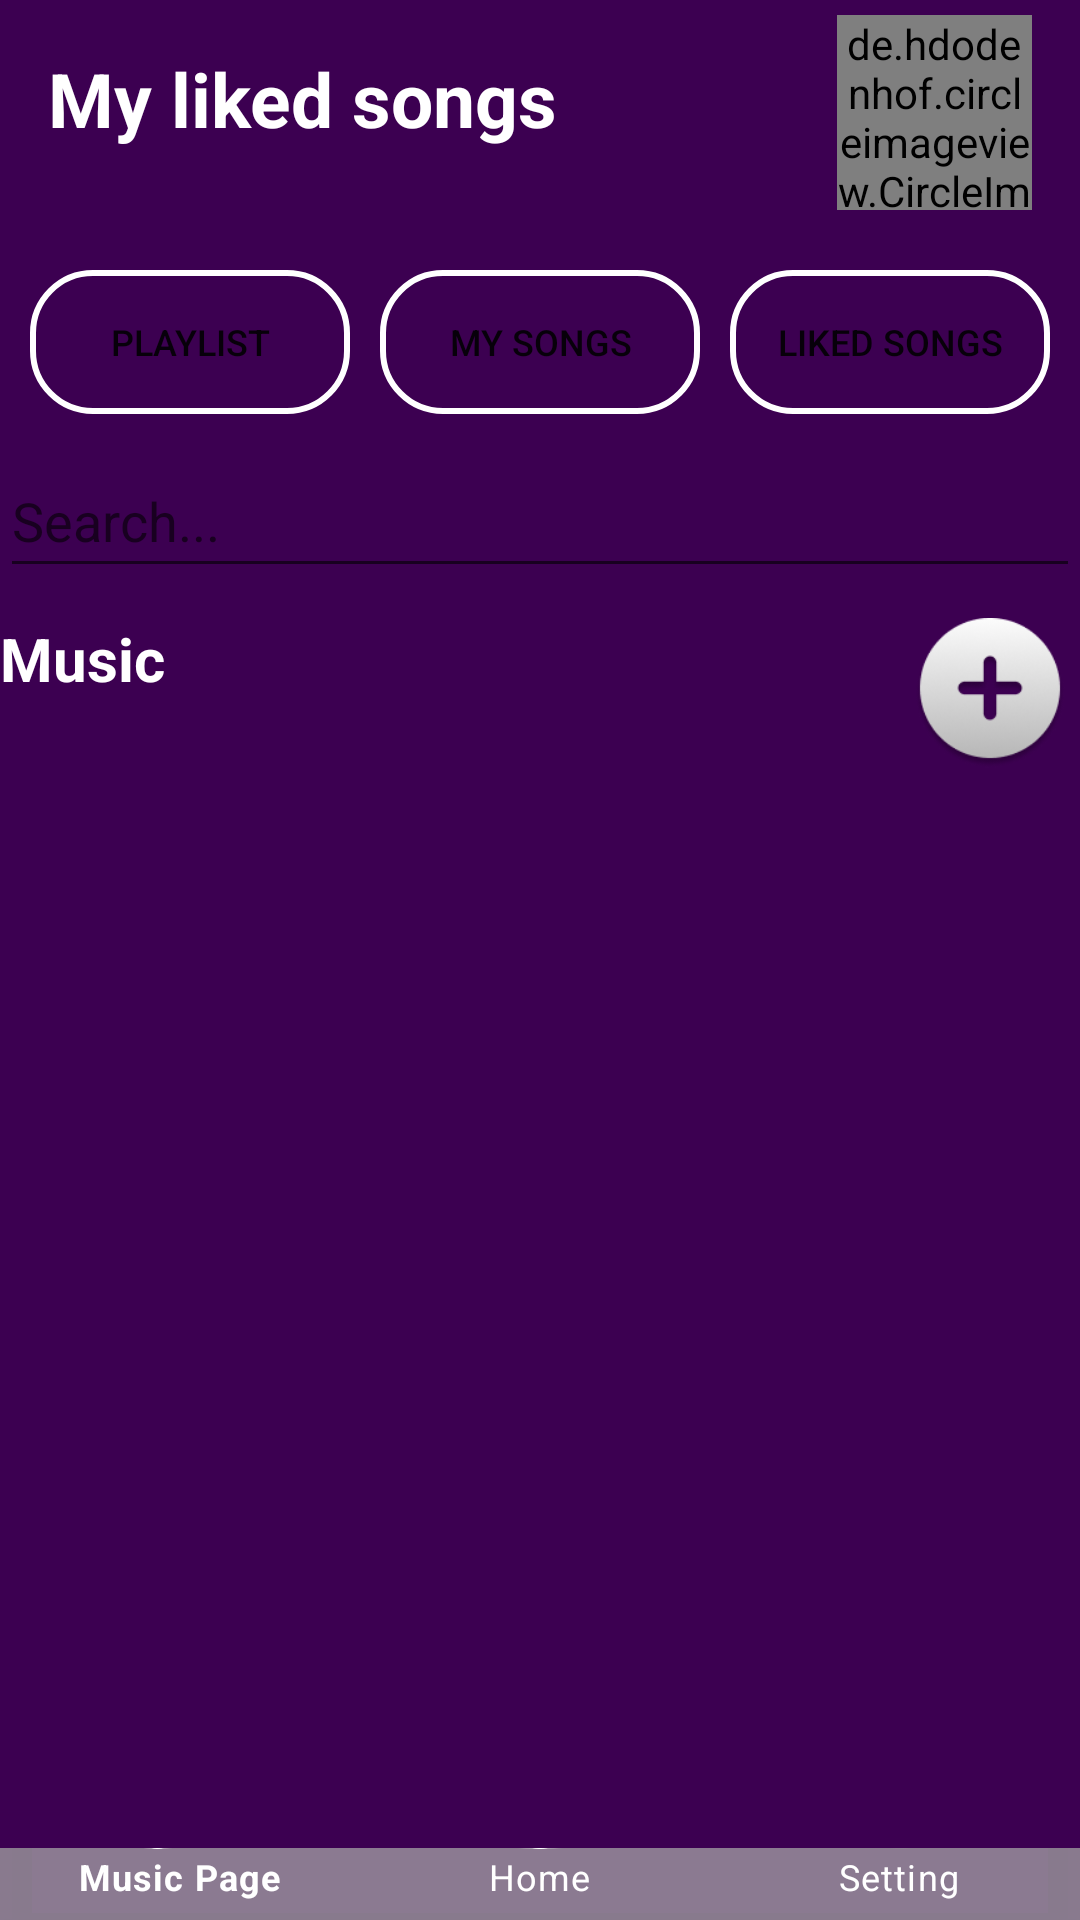

Named icons in this screenshot (1080px×1920px) and their centers, point (x, y):
add: point (990, 688)
